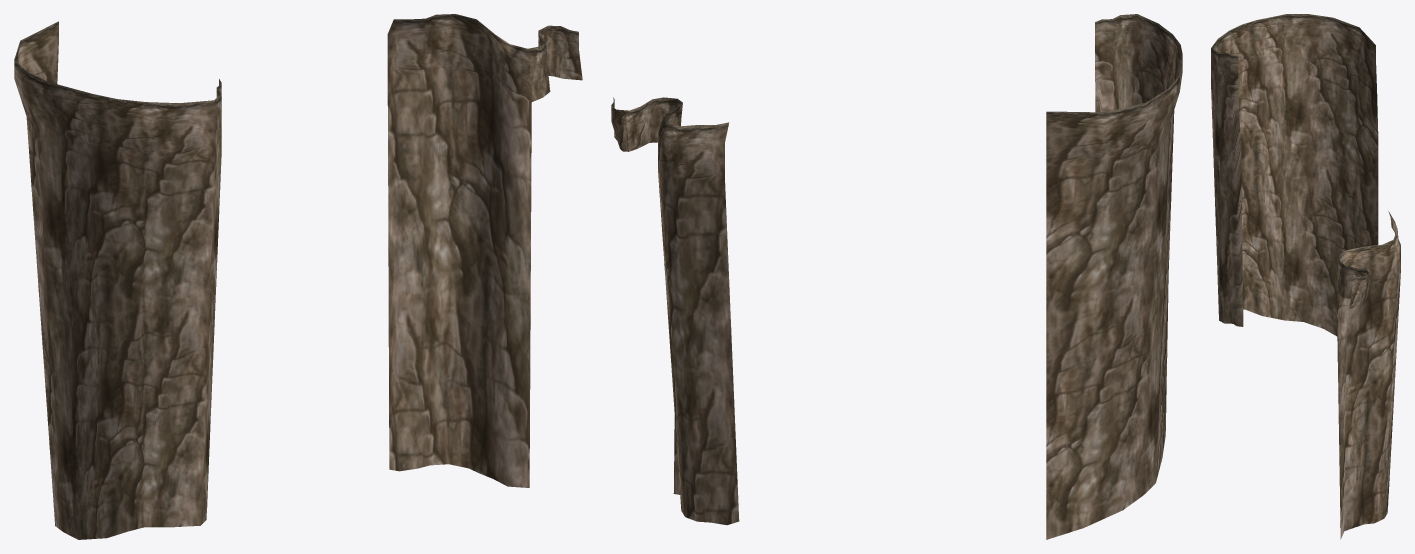
File: OVERHILL_A_01_ROCKWALL4.fbx
3 views of the same model, side by side, from view 1: azimuth 30°, elevation 25°; view 2: azimuth 150°, elevation 25°; view 3: azimuth 270°, elevation 25° (orthographic). The views are drawn at different scales.
Visible parts, largest first — view 1: OVERHILL_A_01_ROCKWALL4; view 2: OVERHILL_A_01_ROCKWALL4; view 3: OVERHILL_A_01_ROCKWALL4.
Part boxes in pixels (x1=…): OVERHILL_A_01_ROCKWALL4: x1=14, y1=14, x2=582, y2=539; OVERHILL_A_01_ROCKWALL4: x1=611, y1=14, x2=1182, y2=539; OVERHILL_A_01_ROCKWALL4: x1=1211, y1=14, x2=1400, y2=539.
Size of the model in its own units: 302058 by 278032 by 132045.
Materials: 2 (2 with a texture image).
